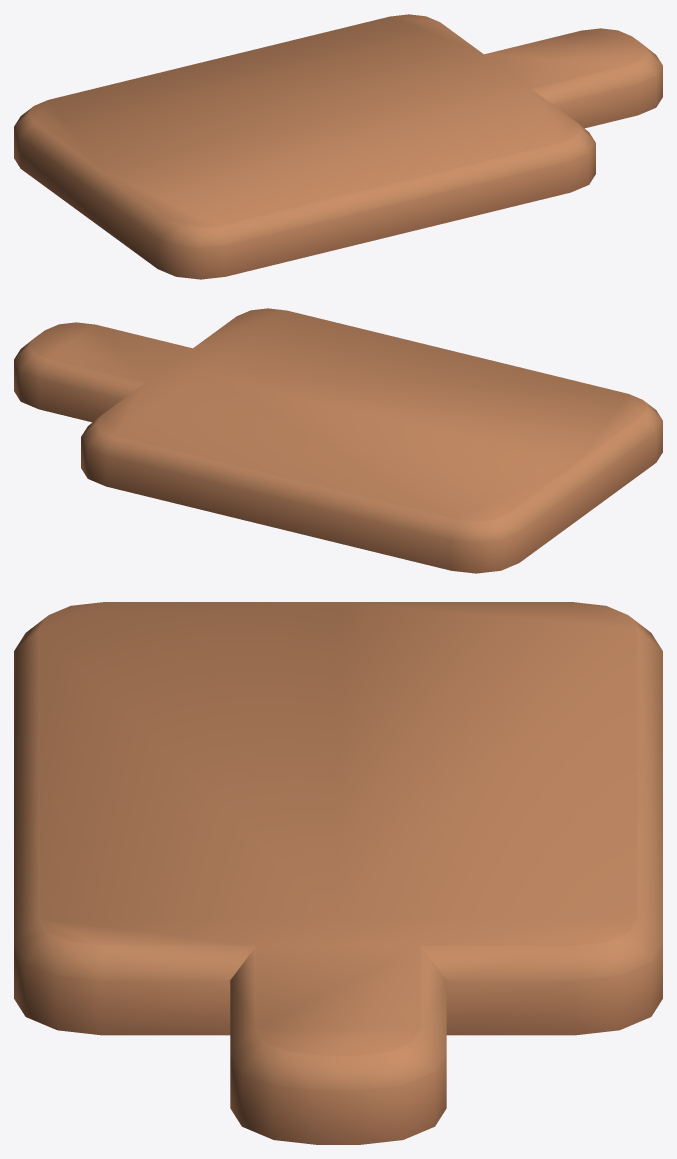
File: Cutting Board.glb
3 views of the same model, one above another, from view 1: azimuth 30°, elevation 25°; view 2: azimuth 150°, elevation 25°; view 3: azimuth 270°, elevation 25° (orthographic). The views are drawn at different scales.
Parts seen in each view (by area): view 1: cuttingboard; view 2: cuttingboard; view 3: cuttingboard.
Part boxes in pixels (<box>): cuttingboard: <box>14,14,662,279</box>; cuttingboard: <box>14,308,662,573</box>; cuttingboard: <box>14,602,662,1144</box>.
Bounding box in the file's own units: 1.3 × 0.1 × 0.75.
1 material, 1 textured.
